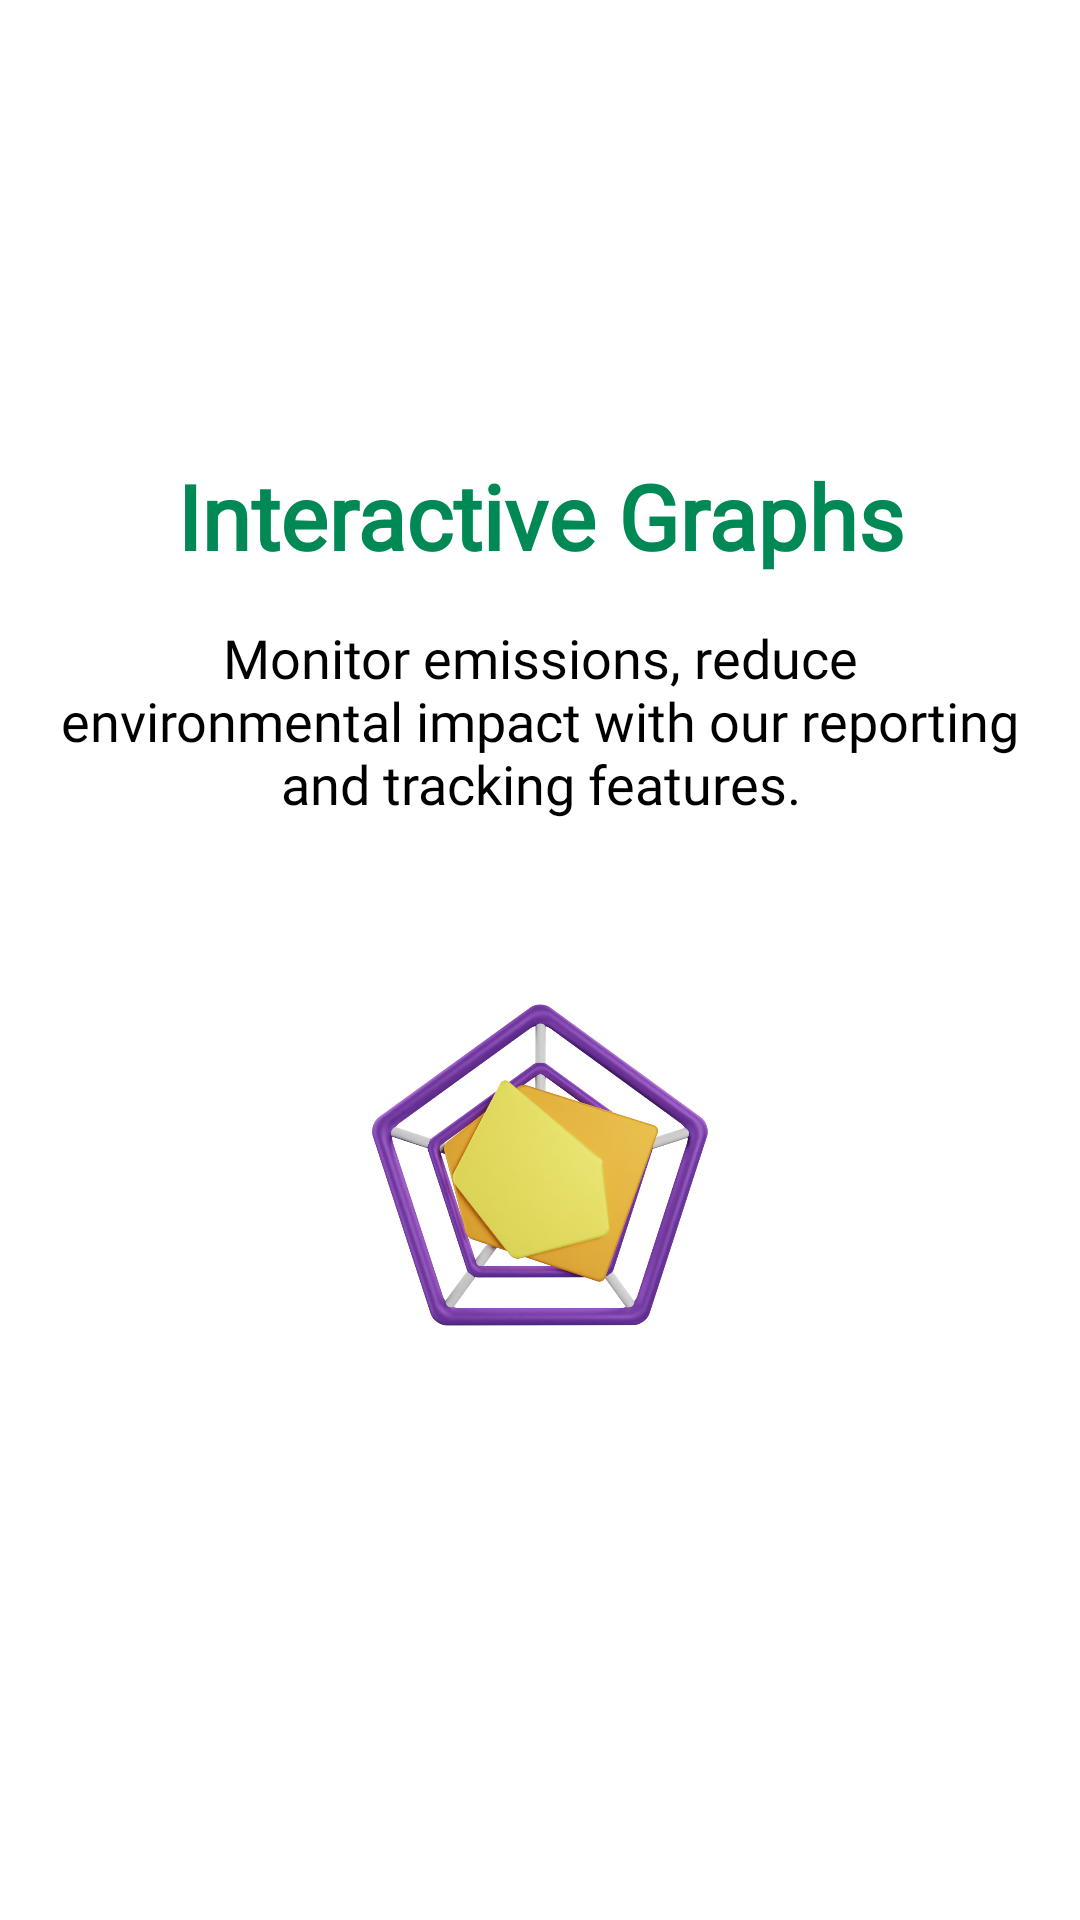

Named icons in this screenshot (1080px x 1920px) and their bounding boxes, detection(x1, y1, x2, y2):
radargraph: detection(372, 1004, 708, 1326)
